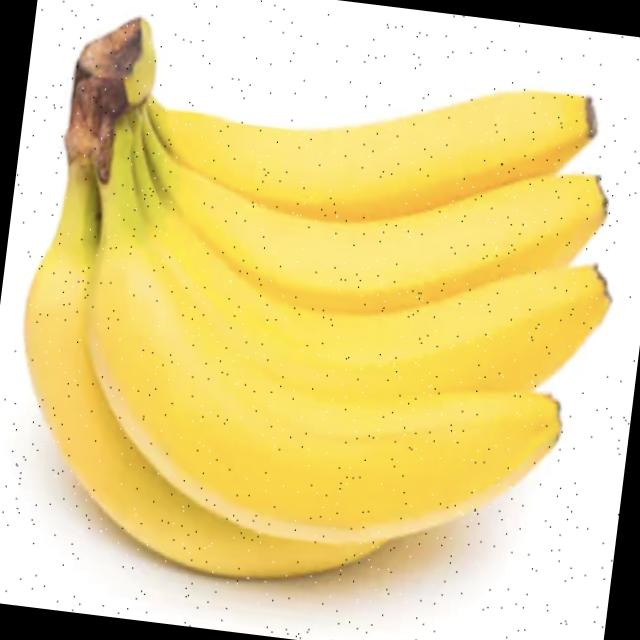banana: (27, 158, 509, 549)
